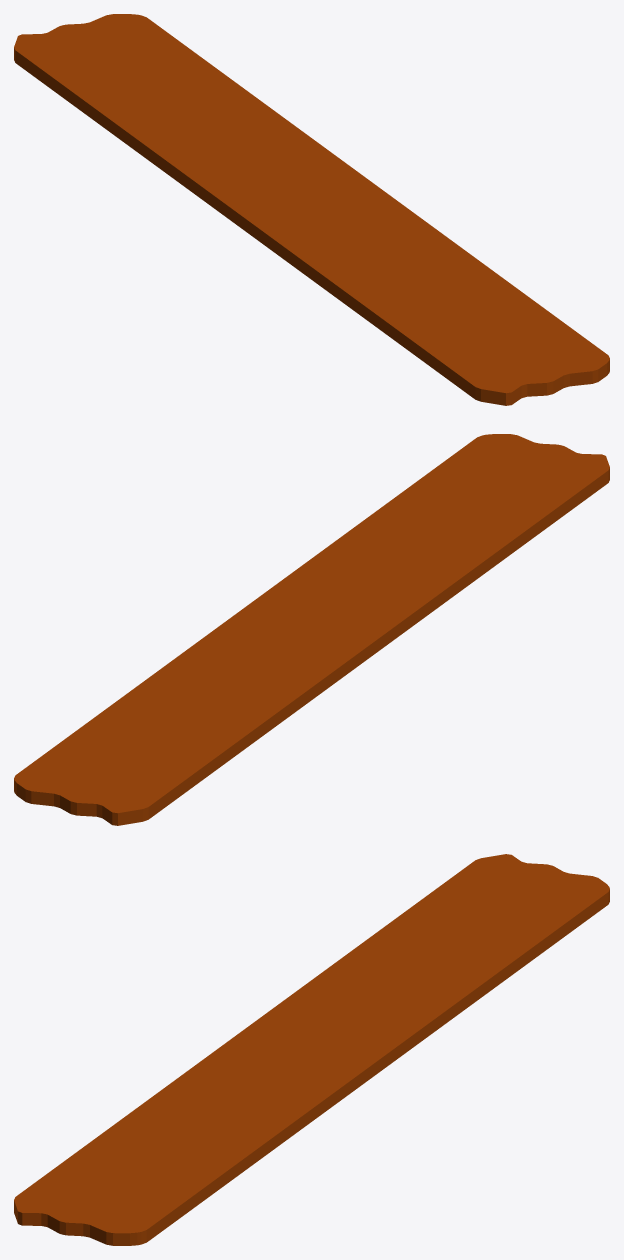
Rendered from Platform.fbx.
The picture shows the model from 3 angles, top to bottom: view 1: azimuth 30°, elevation 25°; view 2: azimuth 150°, elevation 25°; view 3: azimuth 330°, elevation 25°; orthographic projection.
Visible parts, largest first — view 1: Plane; view 2: Plane; view 3: Plane.
Part boxes in pixels (x1=…): Plane: x1=14, y1=14, x2=609, y2=405; Plane: x1=14, y1=434, x2=609, y2=825; Plane: x1=14, y1=854, x2=609, y2=1245.
Bounding box in the file's own units: 647 × 59.47 × 4143.
